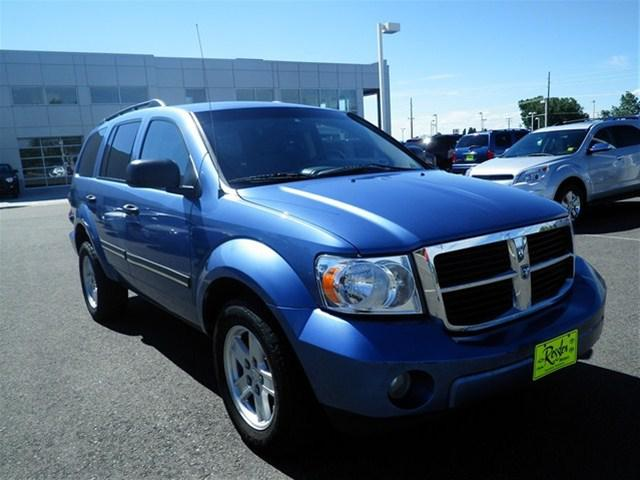Car: (65, 84, 619, 464), (451, 114, 640, 232)
